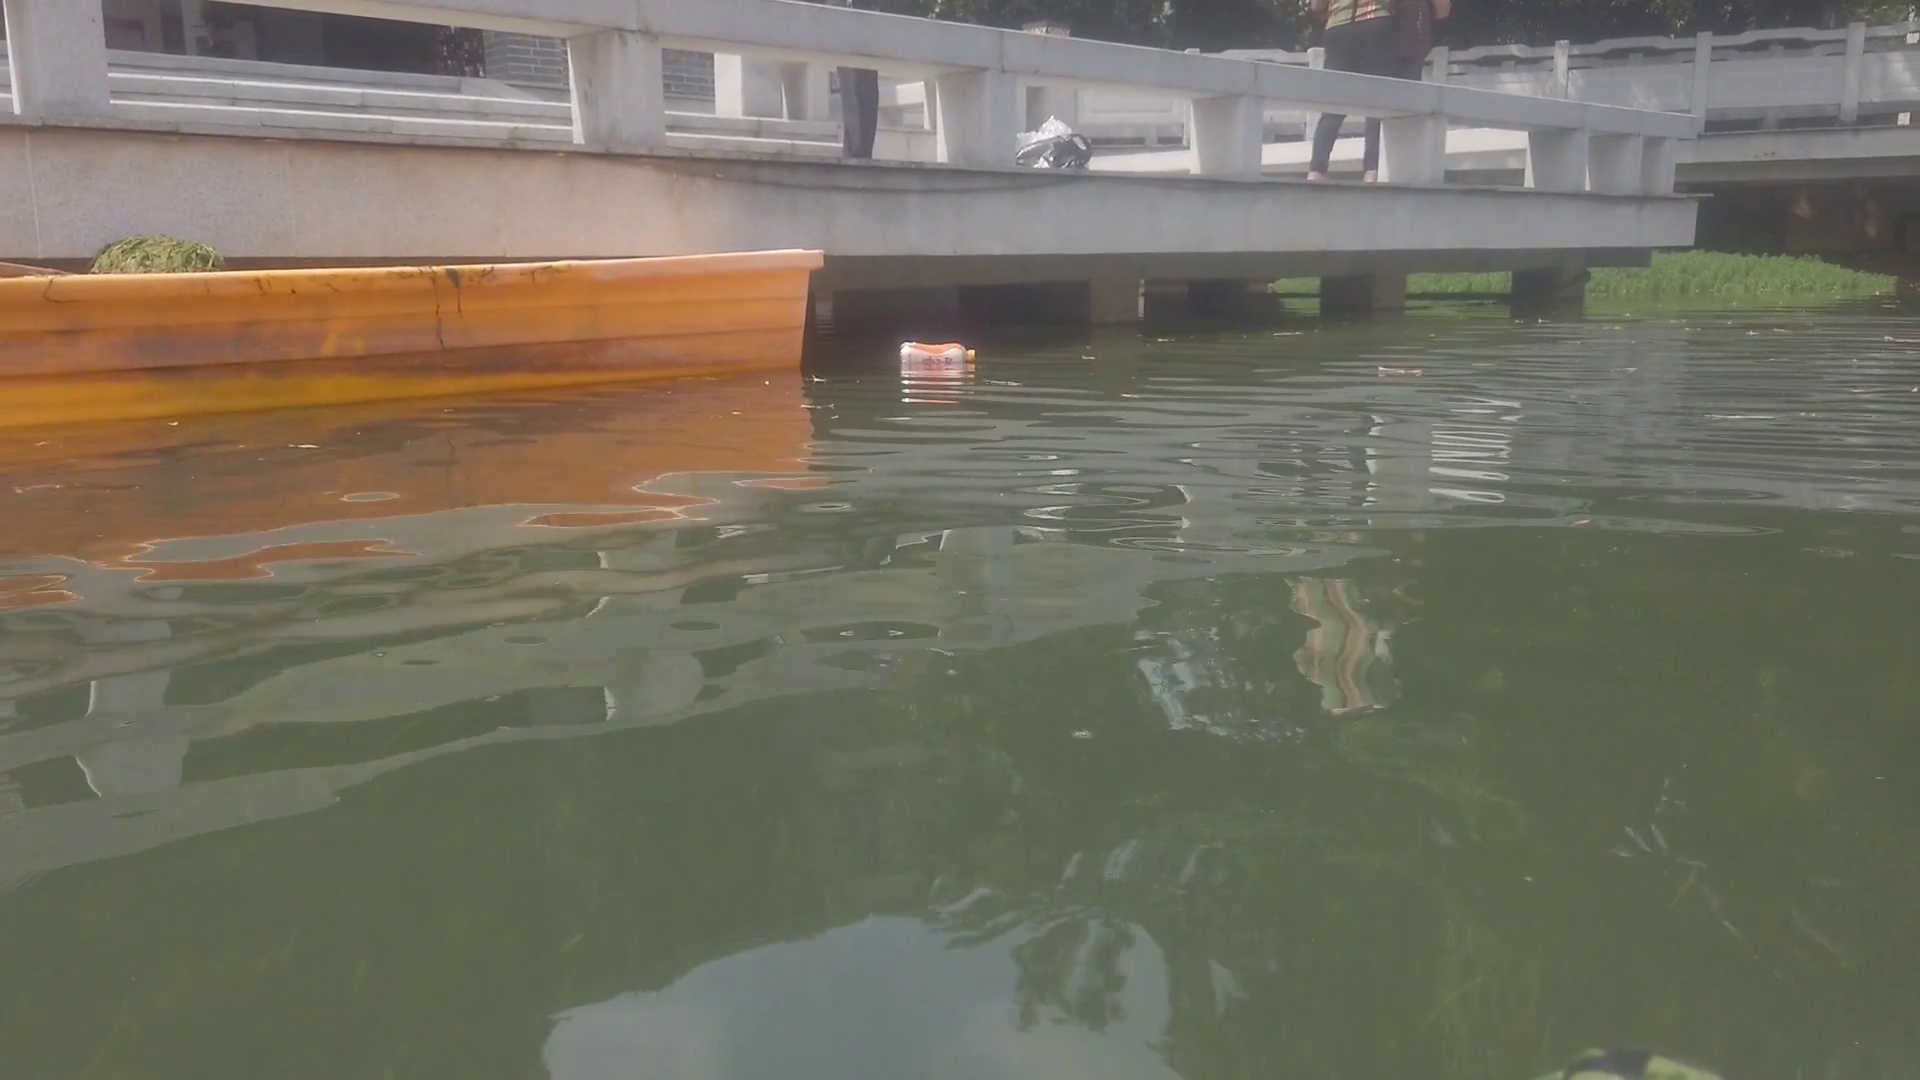bottle: (899, 335, 977, 369)
